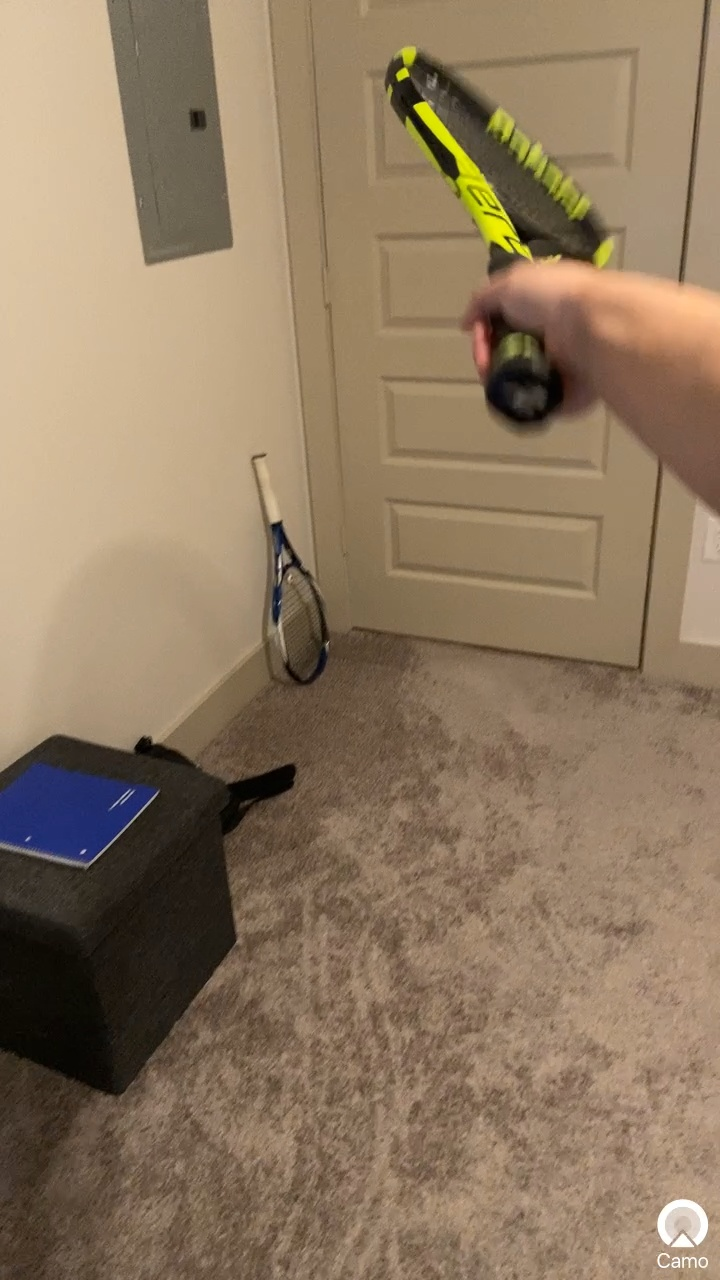Tennis_Racquet: (366, 32, 641, 455)
